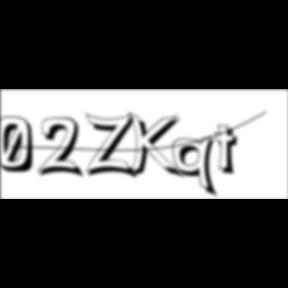0: (0, 115, 42, 174)
2: (38, 117, 88, 181)
K: (127, 110, 186, 182)
Z: (86, 112, 140, 181)
q: (172, 135, 222, 200)
t: (215, 124, 246, 179)
